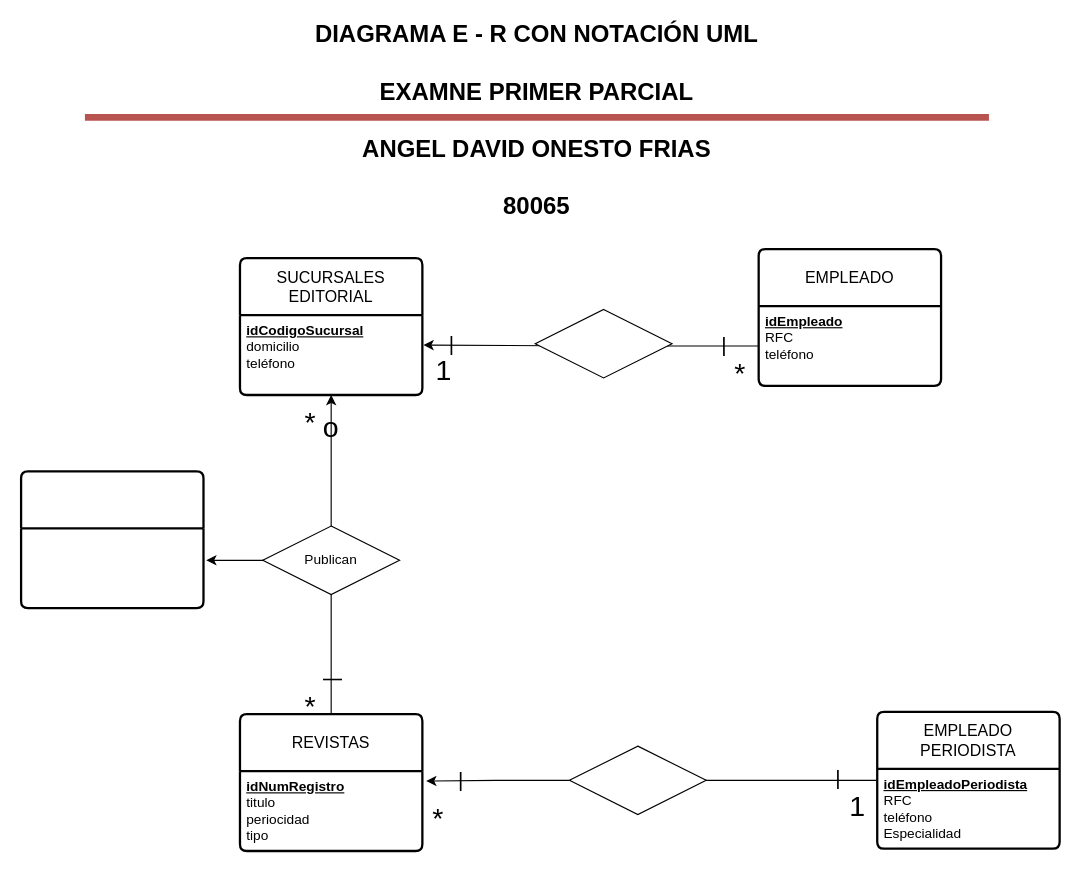
This 1080x871 diagram has some shape labels left out. Each missing label, with the centre of its shape:
"Escribe" goes at (x=637, y=780).
"Fecha NumeroDePaginas Ejemplares Vendidos" goes at (x=111, y=539).
"Trabaja" goes at (x=603, y=343).
